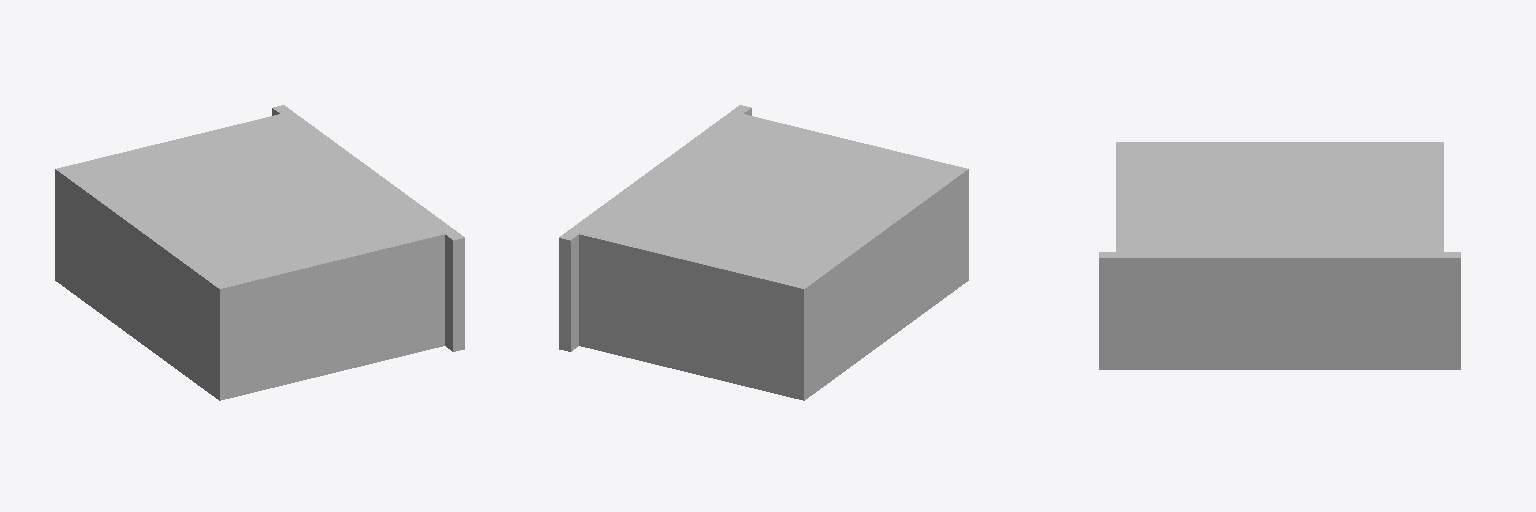
Rendered from (10) Power 780.obj.
3 views of the same model, side by side, from view 1: azimuth 30°, elevation 25°; view 2: azimuth 150°, elevation 25°; view 3: azimuth 270°, elevation 25° (orthographic).
Parts seen in each view (by area): view 1: unit_Cube.001; view 2: unit_Cube.001; view 3: unit_Cube.001.
Part boxes in pixels (x1,y1,x2,y2): unit_Cube.001: (55, 105, 464, 400); unit_Cube.001: (559, 105, 968, 400); unit_Cube.001: (1099, 142, 1460, 369).
Bounding box in the file's own units: 0.4 × 0.18 × 0.53.